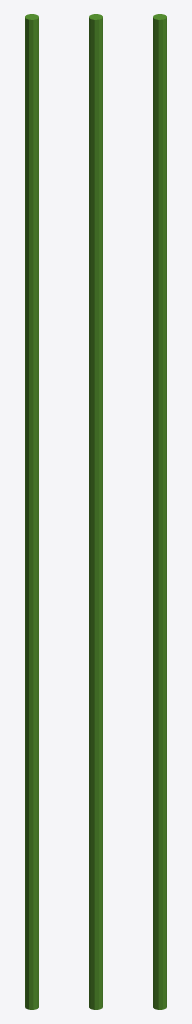
The model's file is vine_vert.fbx.
The picture shows the model from 3 angles, left to right: view 1: azimuth 30°, elevation 25°; view 2: azimuth 150°, elevation 25°; view 3: azimuth 330°, elevation 25°; orthographic projection.
Visible parts, largest first — view 1: pCylinder59; view 2: pCylinder59; view 3: pCylinder59.
Part boxes in pixels (bbox=[...]): pCylinder59: bbox=[25, 14, 38, 1009]; pCylinder59: bbox=[89, 14, 102, 1009]; pCylinder59: bbox=[153, 14, 166, 1009].
Size of the model in its own units: 5 by 380 by 4.75.
